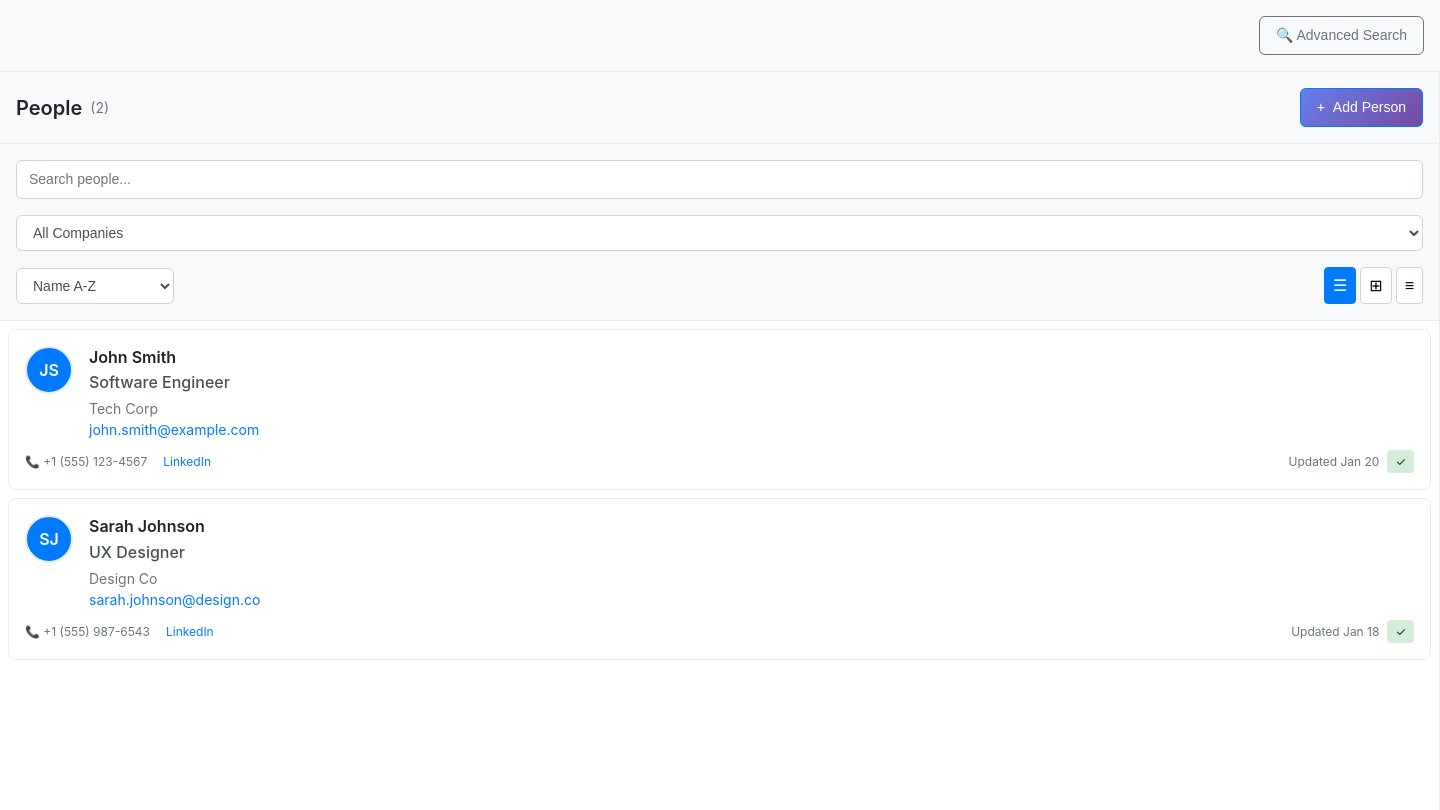
Test: PeoplePage › opens advanced search when search button is clicked
This screenshot has width=1440, height=810.
Click the button "🔍 Advanced Search".
click(1341, 36)  # box left=1259, top=16, right=1424, bottom=55
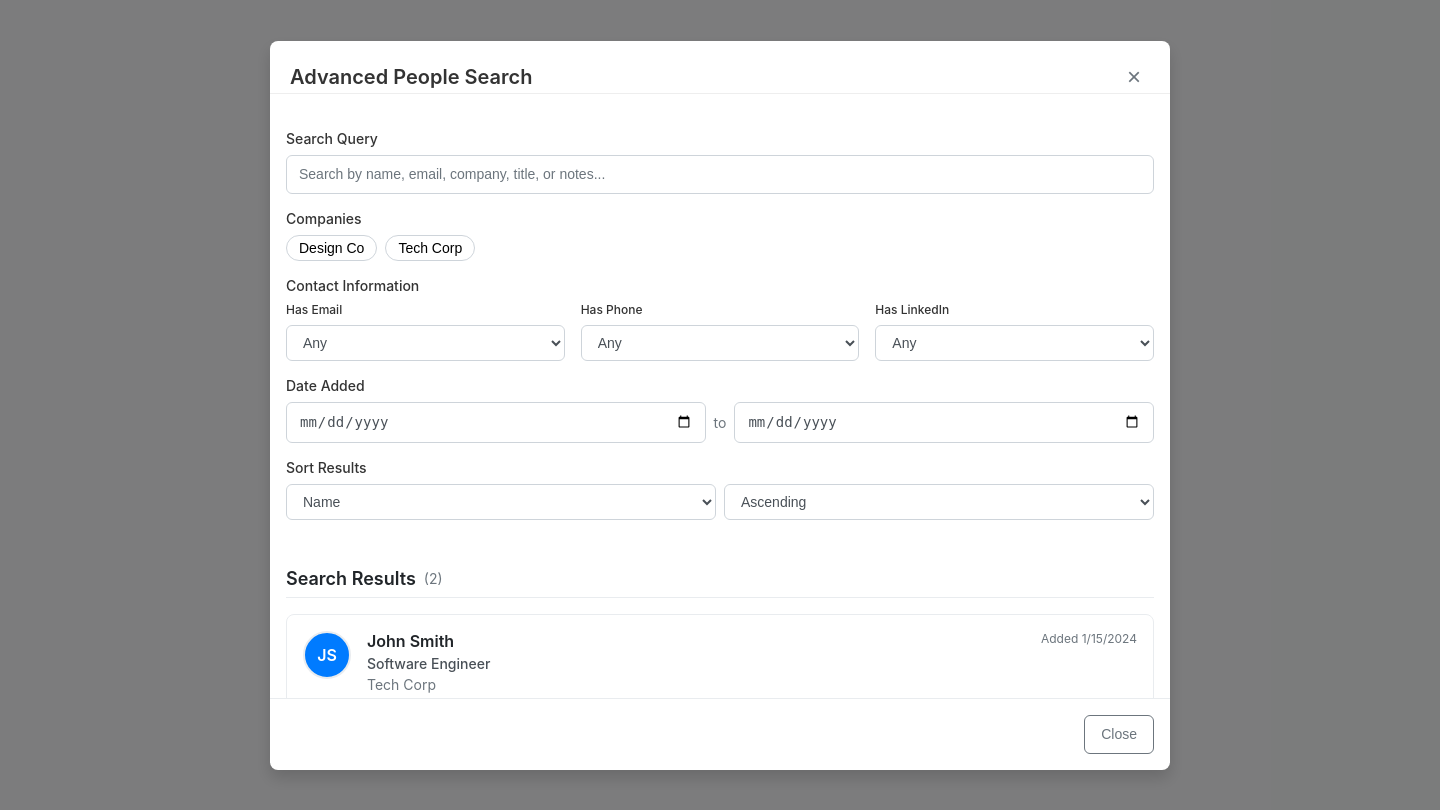
Expected: the heading "Advanced People Search" is shown, left=290, top=64, right=532, bottom=88
Expected: the field with placeholder "Search by name, email, company, title, or notes..." is shown, left=286, top=154, right=1154, bottom=194
